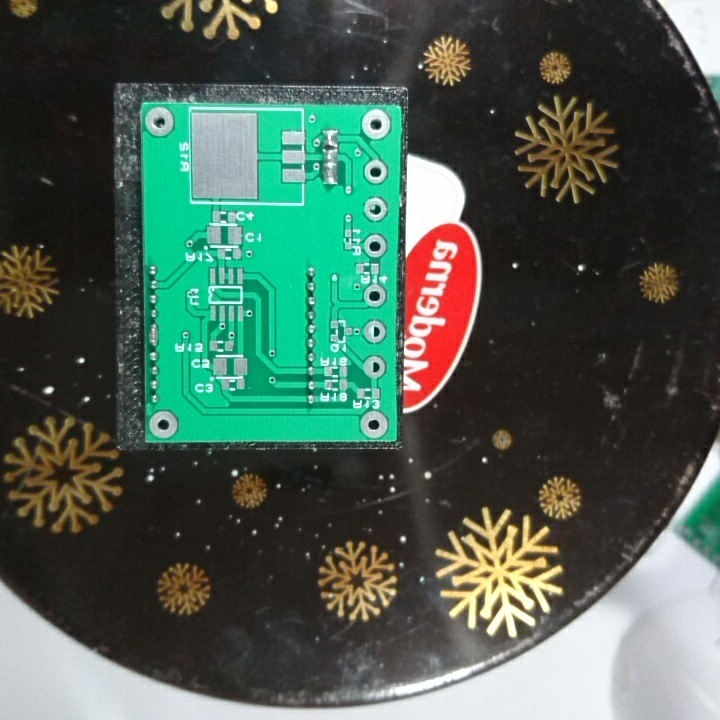F: (144, 106, 177, 140), (360, 109, 392, 141), (147, 409, 181, 439), (359, 409, 390, 439), (362, 159, 391, 187), (362, 280, 390, 309), (360, 318, 389, 346), (361, 232, 388, 259), (360, 196, 388, 222), (362, 352, 388, 380)
P: (318, 146, 342, 188), (145, 320, 163, 348)
